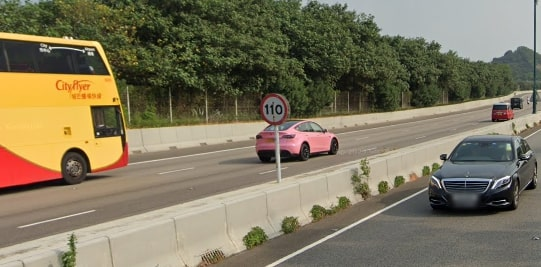Speed Limit: (260, 91, 287, 123)
